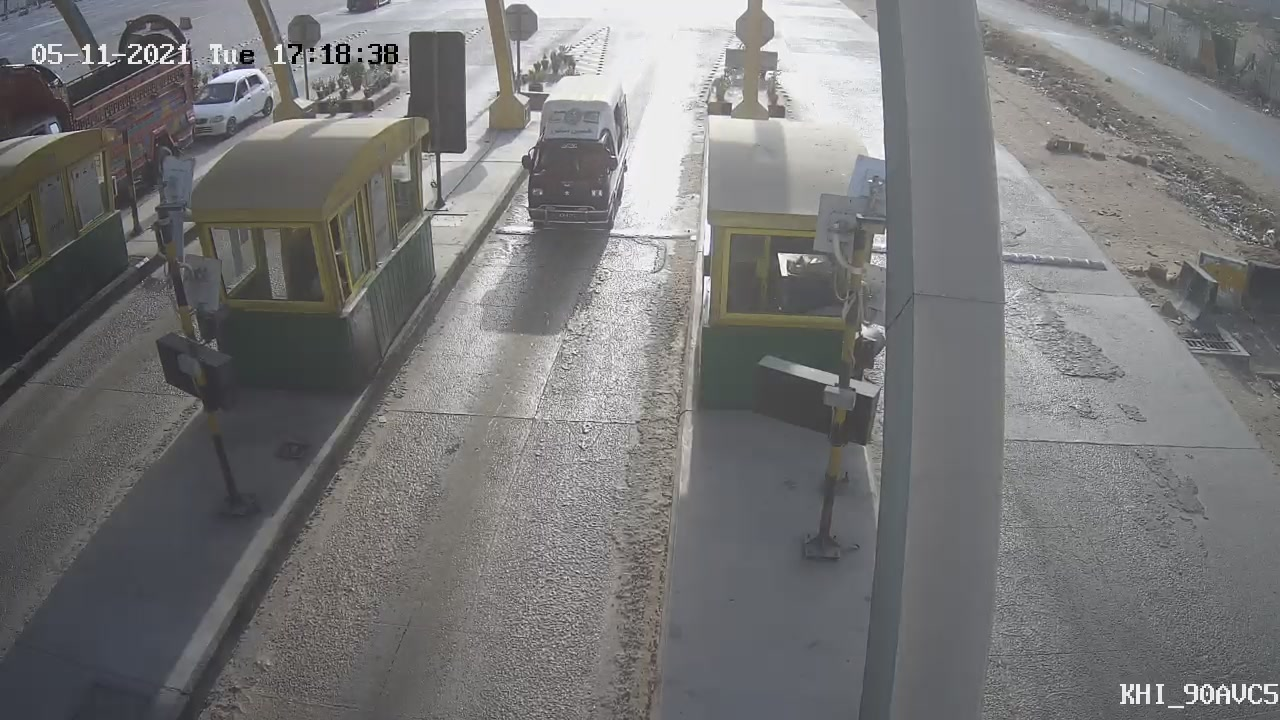F1: (498, 60, 648, 253)
